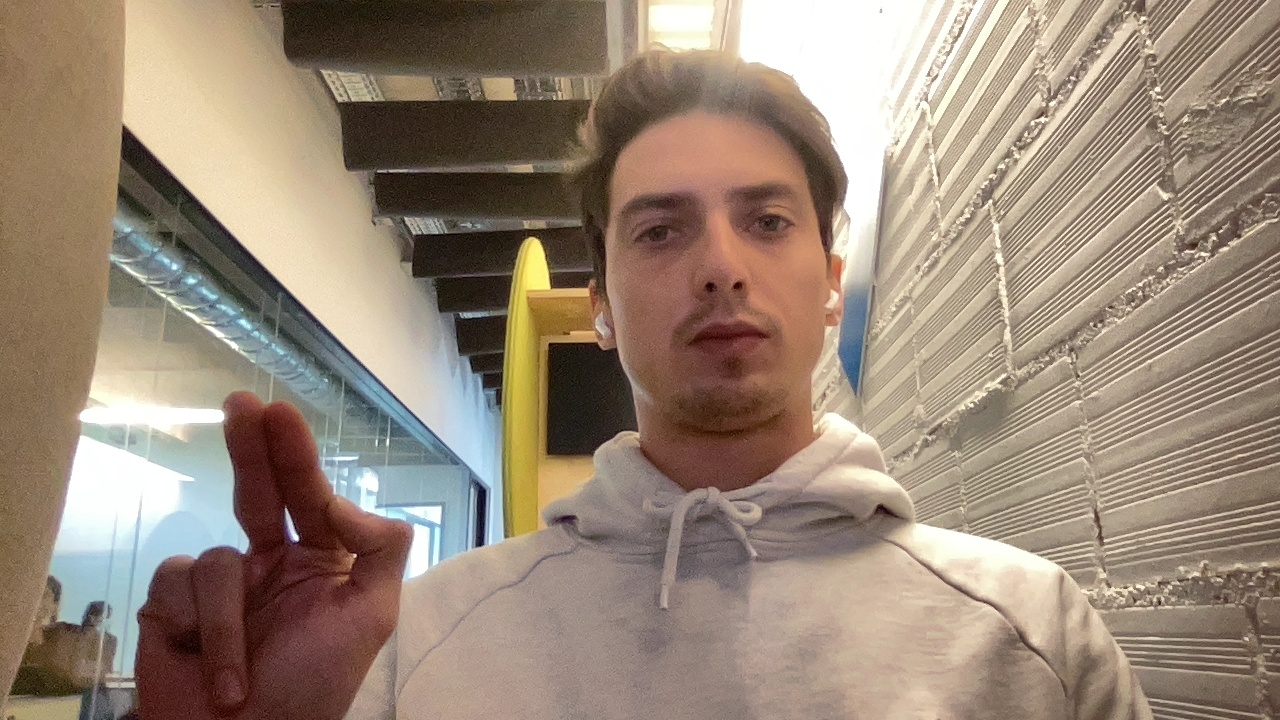no: (109, 382, 422, 718)
